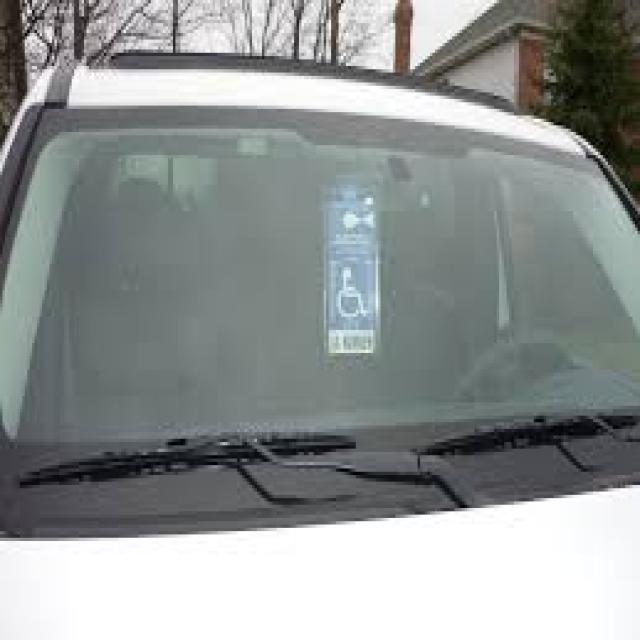car-handicap-placard: (337, 266, 367, 320)
